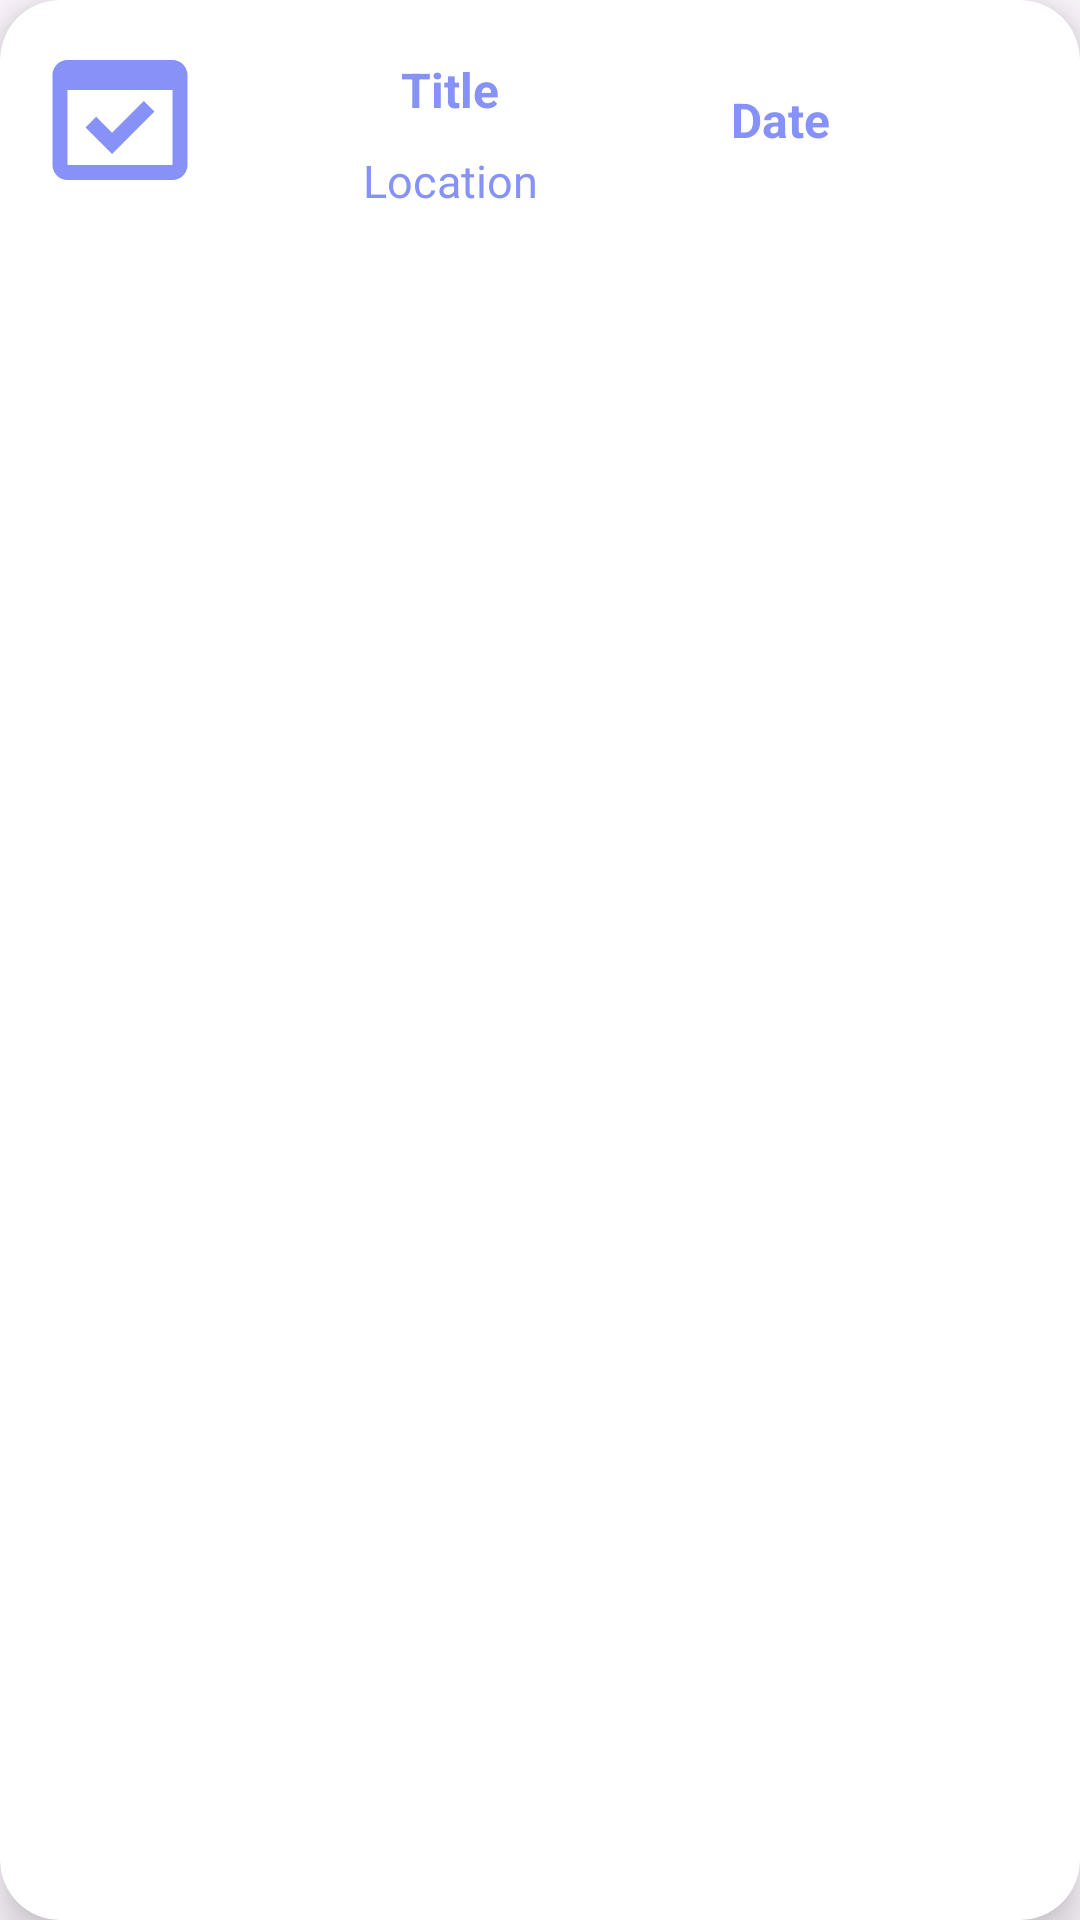

Icons on this 1080x1920 Android screen, each with the point to tap as [x,y]:
domain verification: [120,120]
